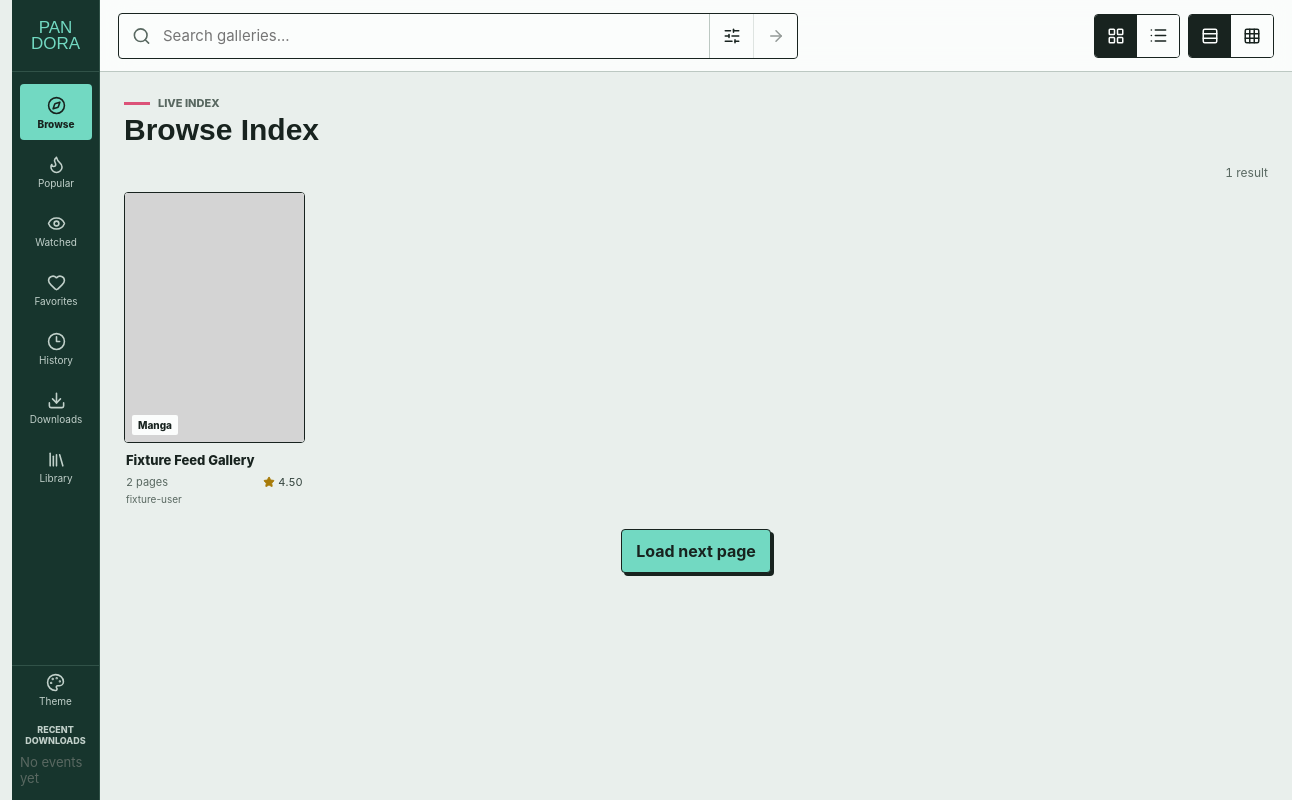
Test: App gallery feed › normalizes a search and persists recent history
Type "  fixture query  " into the dropdown with placeholder "Search galleries..." at x=458, y=36, box x1=118 y1=12 x2=798 y2=58
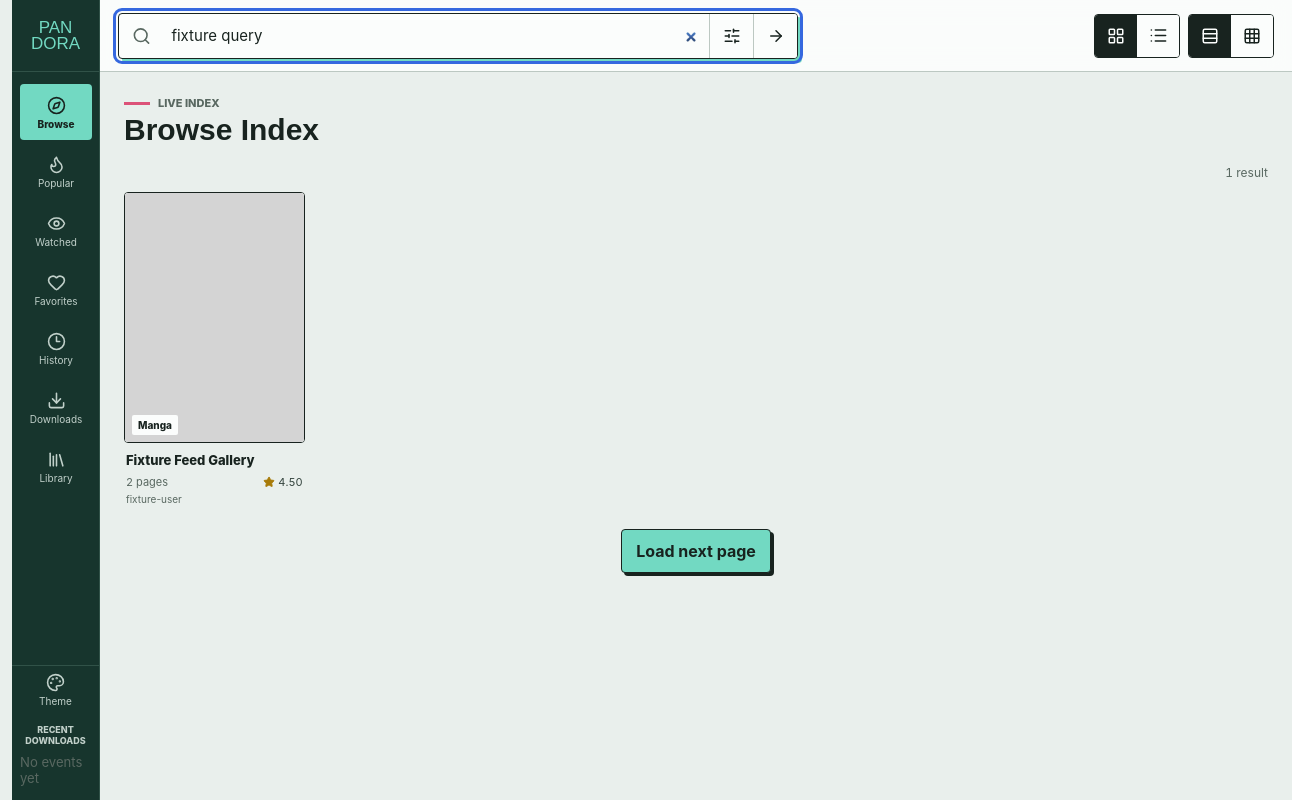
Click the button named "Search" at x=775, y=36, box x1=753 y1=14 x2=797 y2=58
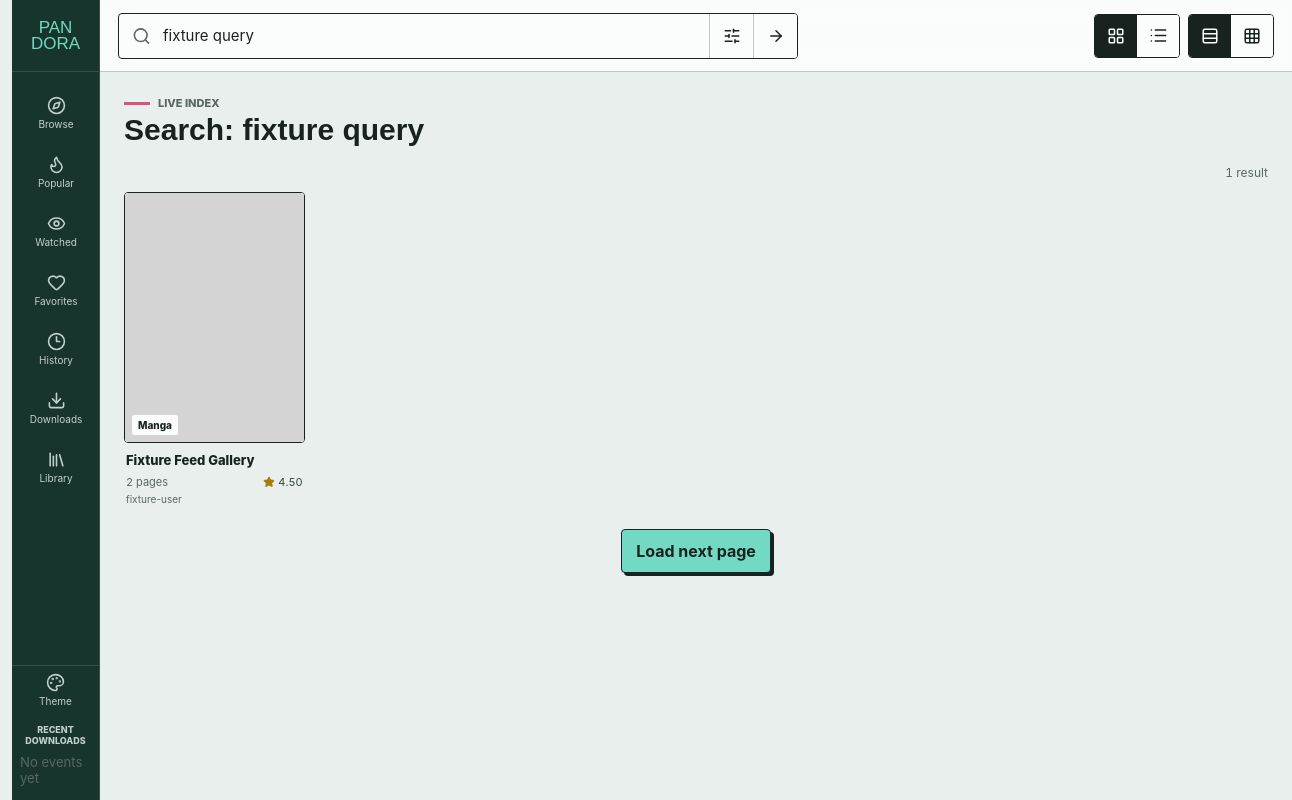
Result: the heading "Search: fixture query" is shown at x1=124 y1=114 x2=424 y2=146
